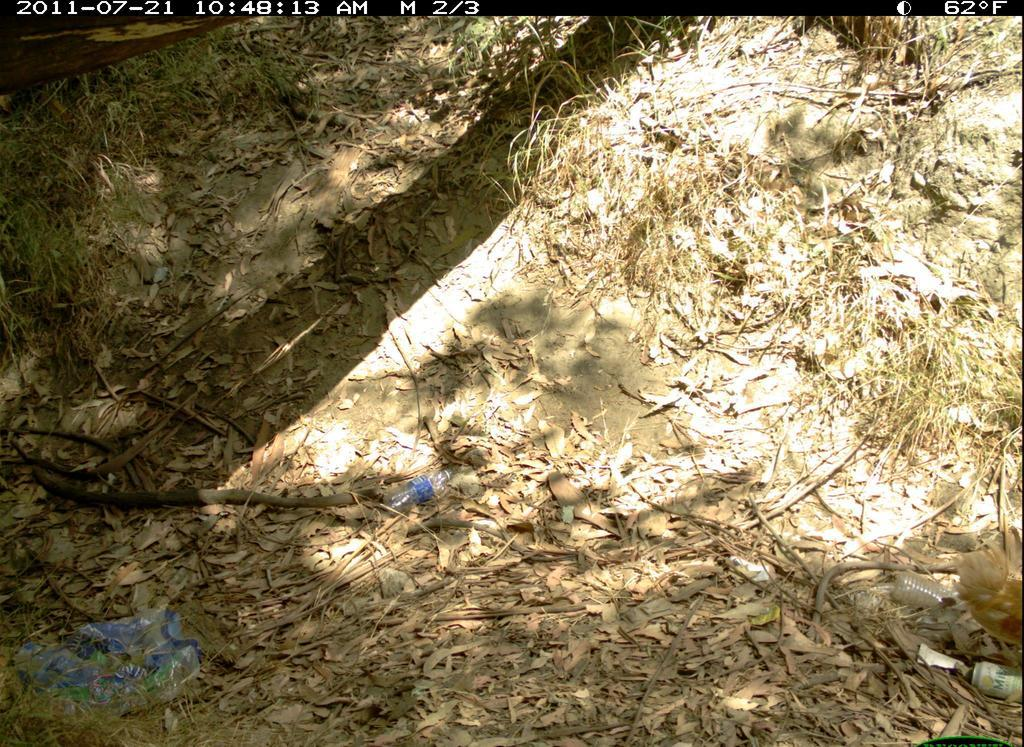bird: (950, 542, 1023, 658)
